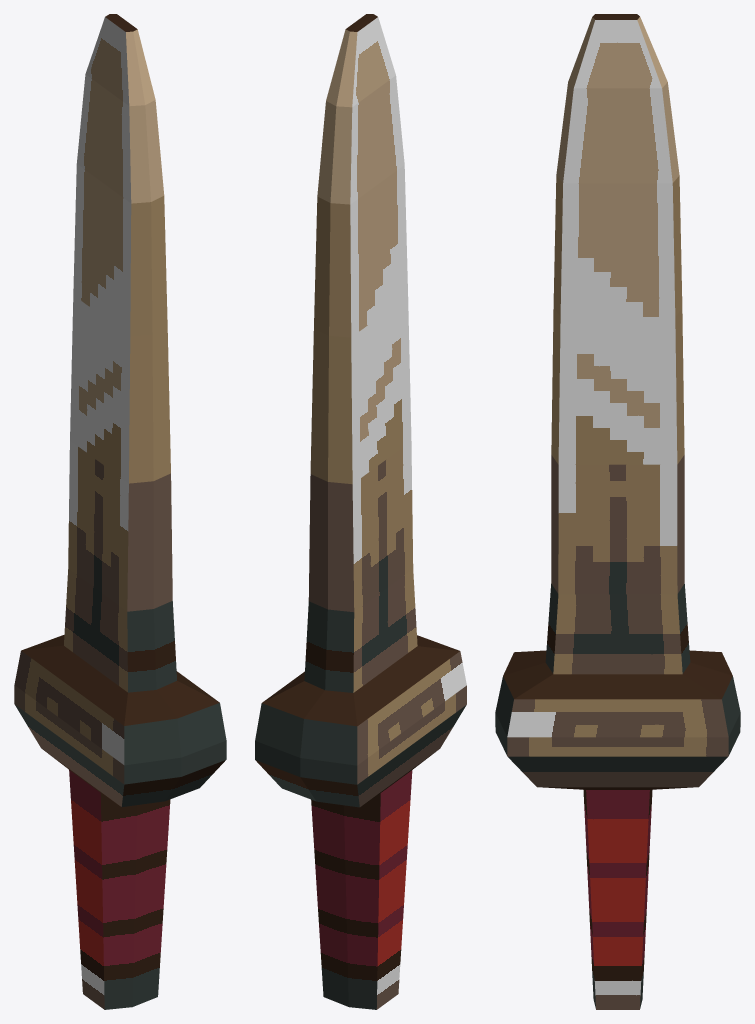
The model's file is sword.glb.
The picture shows the model from 3 angles, left to right: view 1: azimuth 30°, elevation 25°; view 2: azimuth 150°, elevation 25°; view 3: azimuth 270°, elevation 25°; orthographic projection.
Visible parts, largest first — view 1: Cube.022_Cube.005; view 2: Cube.022_Cube.005; view 3: Cube.022_Cube.005.
Boxes of the visible parts, bbox=[...] form: Cube.022_Cube.005: bbox=[14, 14, 226, 1009]; Cube.022_Cube.005: bbox=[255, 14, 466, 1009]; Cube.022_Cube.005: bbox=[495, 14, 740, 1009].
Size of the model in its own units: 0.1132 by 1.03 by 0.2334.
Materials: 1 (1 with a texture image).
